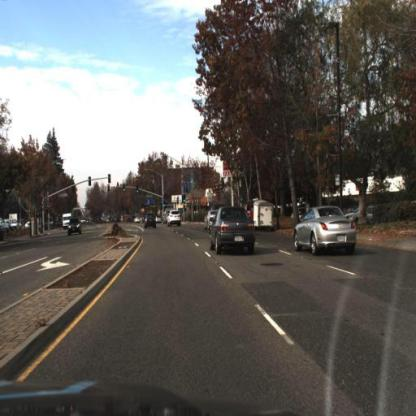car: (292, 205, 360, 255), (208, 205, 258, 260), (203, 204, 218, 236), (145, 212, 161, 231), (69, 216, 84, 234), (168, 210, 183, 227)
